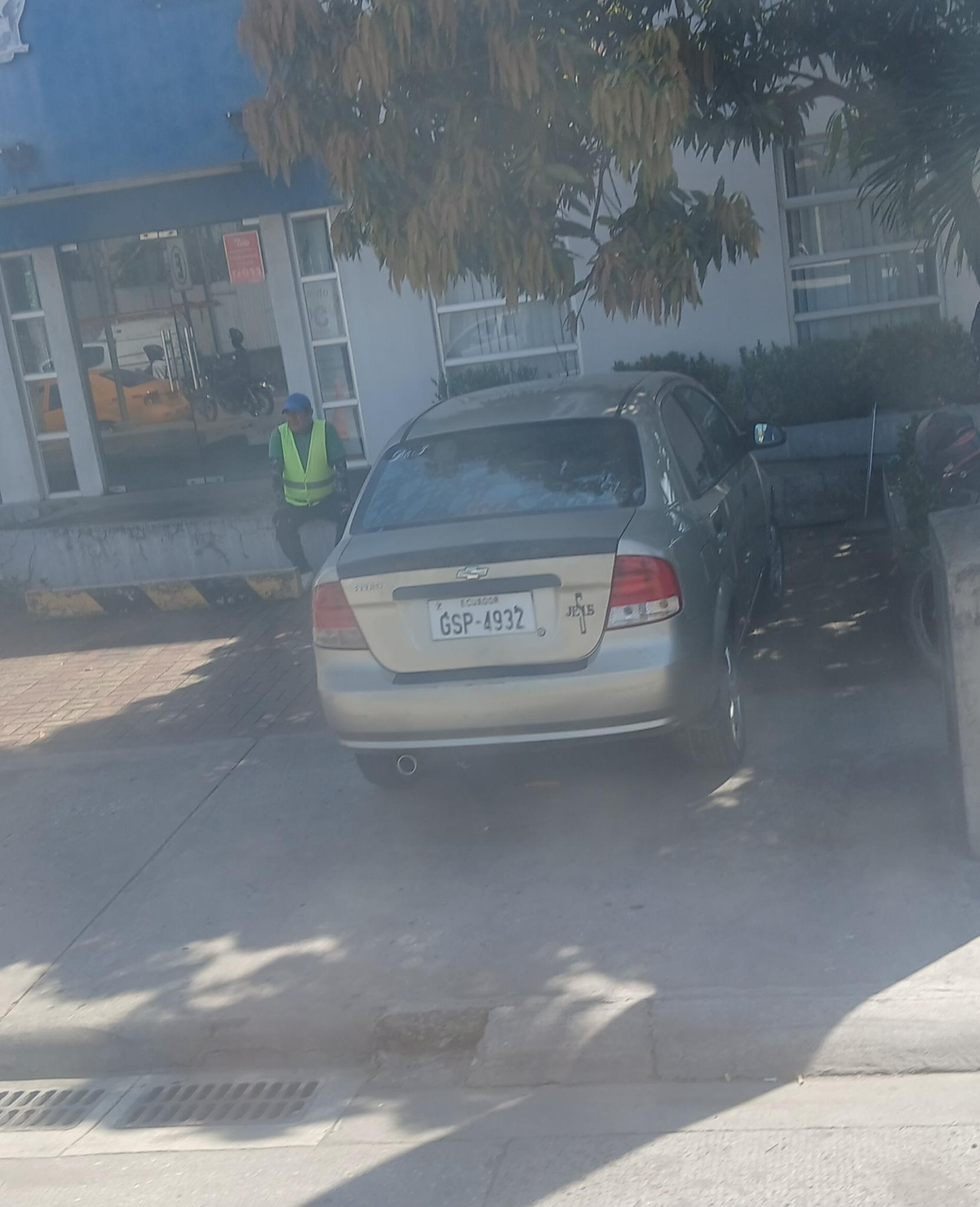license_plate: (428, 590, 540, 640)
